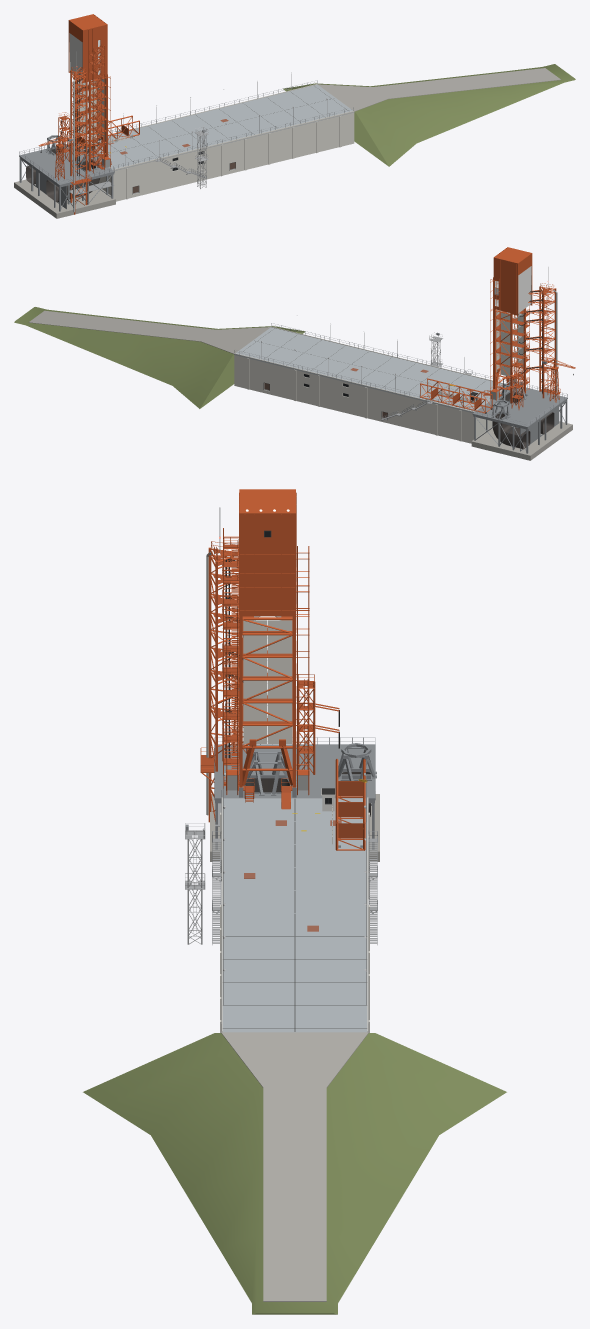
File: pad.lod2.glb
3 renders of one model, top to bottom at view 1: azimuth 30°, elevation 25°; view 2: azimuth 150°, elevation 25°; view 3: azimuth 270°, elevation 25°, orthographic. The views are drawn at different scales.
Visible parts, largest first — view 1: LaunchStand_White, LaunchStand_Deckpaint, Ramp_Earth, Ramp_Concrete, Erector_Red, LaunchStand_Grey, LaunchStand_Concrete, UmbilicalTower_Red, LaunchStand_GreyRails, Erector_ReddeckStairs, Erector_RedStairrails, LaunchStand_Duct (+7 smaller); view 2: LaunchStand_White, LaunchStand_Deckpaint, Ramp_Earth, Erector_Red, Ramp_Concrete, LaunchStand_Grey, LaunchStand_Concrete, UmbilicalTower_Red, LaunchStand_Duct, Erector_Curtain, LaunchStand_GreyRails, Stage2Erector_Red (+4 smaller); view 3: Ramp_Earth, LaunchStand_Deckpaint, Ramp_Concrete, Erector_Red, Erector_Curtain, LaunchStand_Grey, UmbilicalTower_Red, Erector_ReddeckStairs, LaunchStand_DeckStairs, LaunchStand_White, CameraTower_Galv, LaunchStand_Joint (+3 smaller).
Boxes of the visible parts, box(x1,y1,x2,y2) form: LaunchStand_White: box(98, 84, 354, 201); LaunchStand_Deckpaint: box(78, 84, 354, 170); Ramp_Earth: box(283, 64, 575, 166); Ramp_Concrete: box(318, 68, 560, 112); Erector_Red: box(68, 14, 110, 173); LaunchStand_Grey: box(19, 142, 114, 211); LaunchStand_Concrete: box(14, 179, 115, 218); UmbilicalTower_Red: box(70, 67, 90, 214); LaunchStand_GreyRails: box(19, 80, 353, 182); Erector_ReddeckStairs: box(90, 46, 104, 169); Erector_RedStairrails: box(89, 43, 104, 168); LaunchStand_Duct: box(26, 148, 99, 202); LaunchStand_White: box(234, 326, 504, 443); LaunchStand_Deckpaint: box(234, 327, 506, 413); Ramp_Earth: box(14, 307, 305, 408); Erector_Red: box(490, 247, 532, 403); Ramp_Concrete: box(29, 310, 270, 354); LaunchStand_Grey: box(472, 386, 567, 453); LaunchStand_Concrete: box(471, 421, 572, 460); UmbilicalTower_Red: box(525, 286, 559, 398); LaunchStand_Duct: box(492, 393, 554, 449); Erector_Curtain: box(496, 310, 523, 376); LaunchStand_GreyRails: box(234, 323, 567, 425); Stage2Erector_Red: box(420, 378, 492, 413); Ramp_Earth: box(83, 1033, 506, 1314); LaunchStand_Deckpaint: box(222, 798, 367, 1032); Ramp_Concrete: box(221, 1032, 368, 1301); Erector_Red: box(223, 489, 309, 795); Erector_Curtain: box(243, 620, 292, 743); LaunchStand_Grey: box(214, 744, 375, 849); UmbilicalTower_Red: box(201, 547, 239, 822); Erector_ReddeckStairs: box(224, 544, 239, 784); LaunchStand_DeckStairs: box(212, 838, 377, 944); LaunchStand_White: box(220, 797, 369, 1032); CameraTower_Galv: box(185, 823, 205, 944); LaunchStand_Joint: box(223, 799, 366, 1031).
Size of the model in its own units: 166 by 51.93 by 57.
